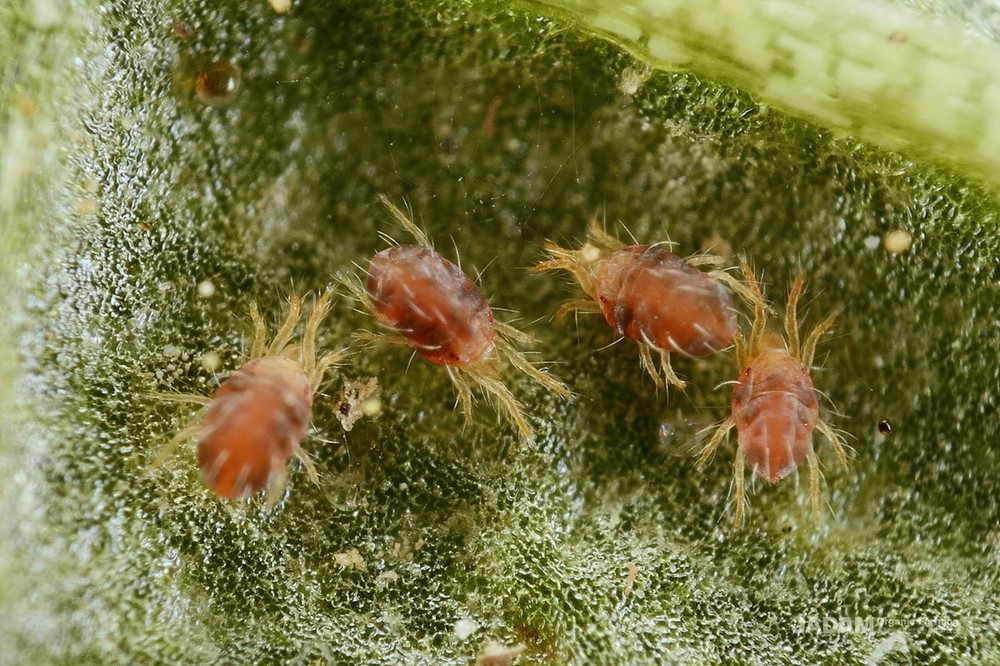Aracnido Rojo: (674, 269, 930, 525), (335, 207, 574, 446), (143, 271, 381, 509), (543, 187, 743, 387)
